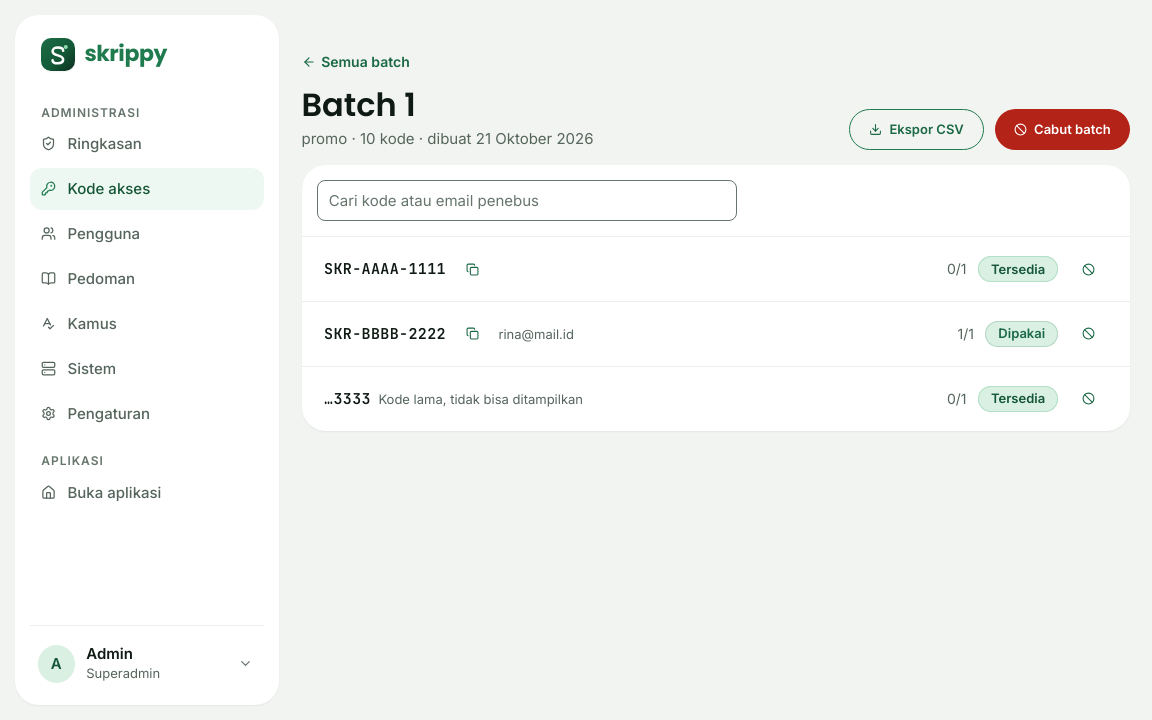
halaman satu batch › pencarian menyaring menurut kode atau email penebus
Check: the text "SKR-AAAA-1111" is shown, box 324,257 -> 446,281
Type "rina" into the search field with placeholder "Cari kode atau email penebus" at (526, 201), box 316,180 -> 736,221
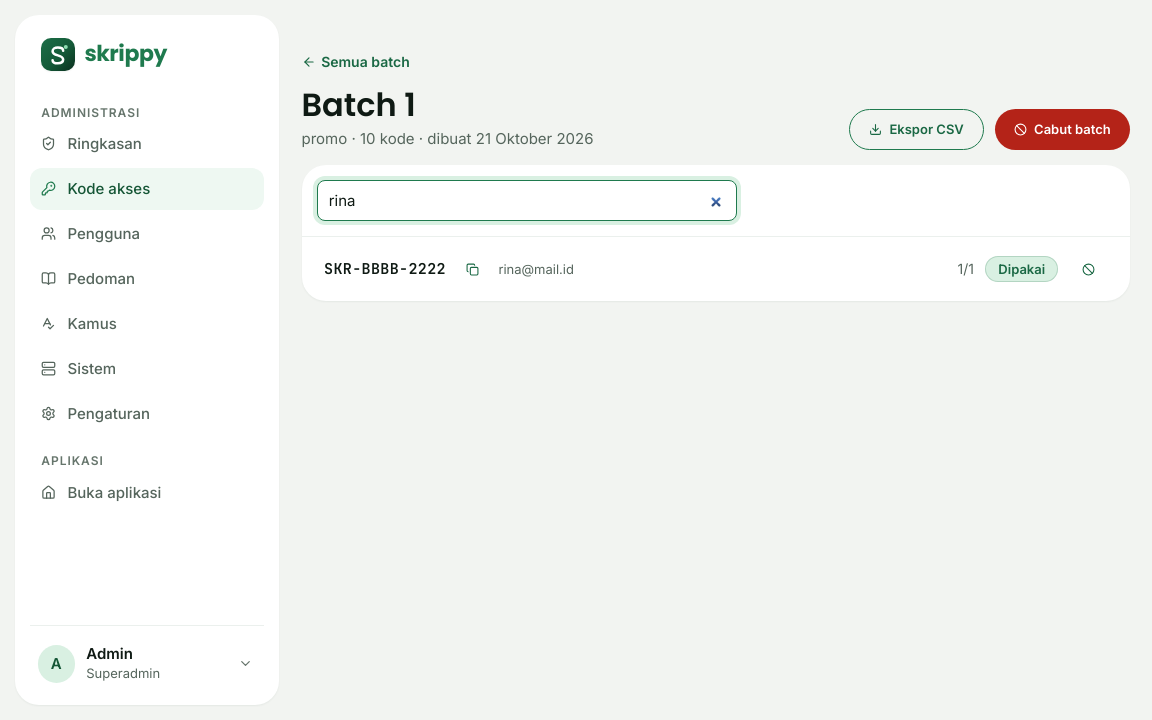
Check: the text "SKR-BBBB-2222" is shown, box 324,257 -> 446,281
Check: the text "SKR-AAAA-1111" is gone
Replace the text in the search field with placeholder "Cari kode atau email penebus" with "aaaa" at (526, 201), box 316,180 -> 736,221
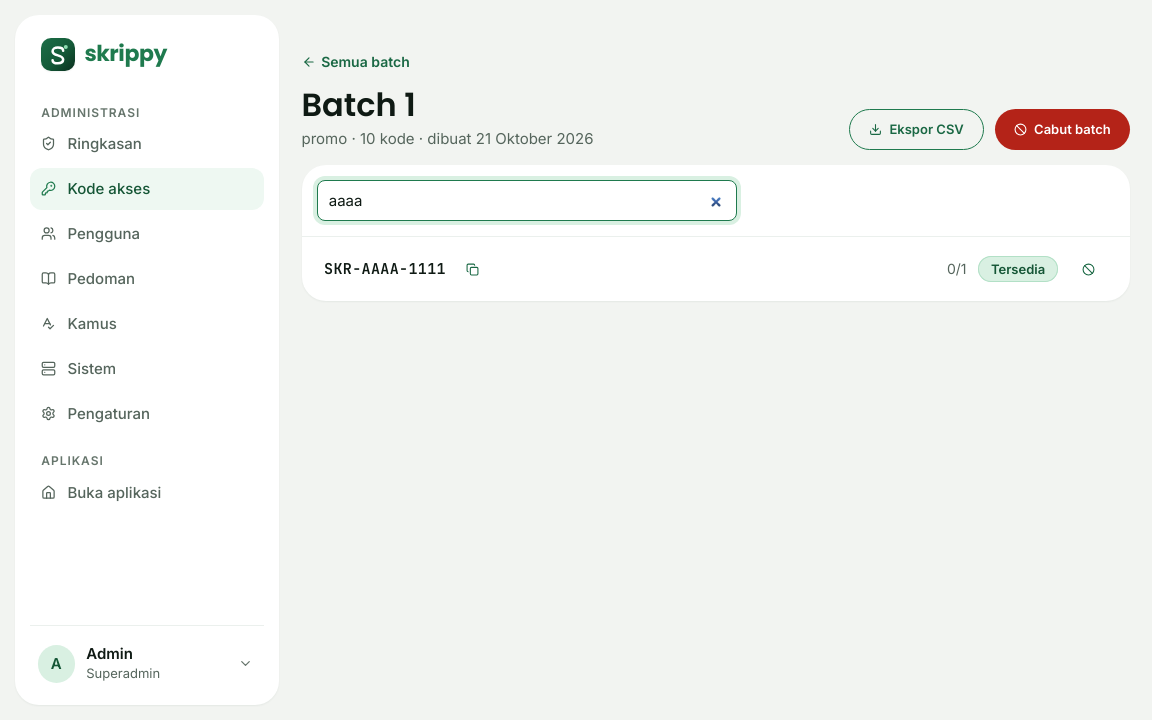
Check: the text "SKR-BBBB-2222" is not shown
Check: the text "SKR-AAAA-1111" is shown, box 324,257 -> 446,281
Replace the text in the search field with placeholder "Cari kode atau email penebus" with "tidak-ada" at (526, 201), box 316,180 -> 736,221
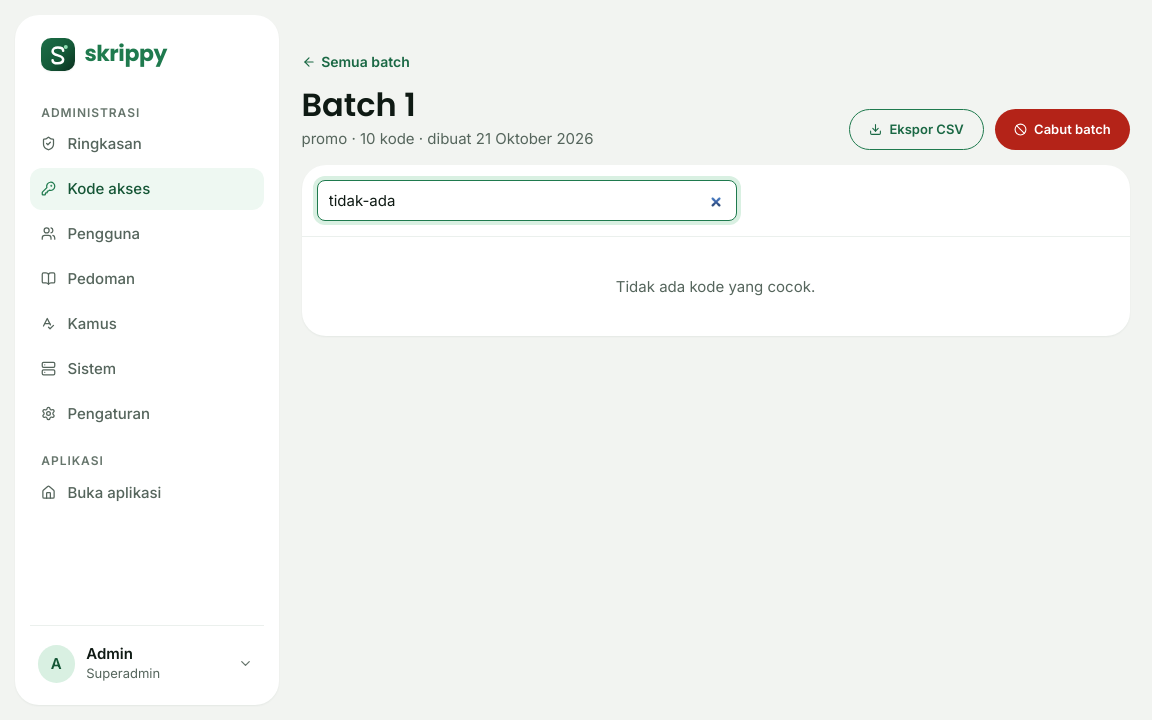
Check: the text "Tidak ada kode yang cocok." is shown, box 616,277 -> 815,296
